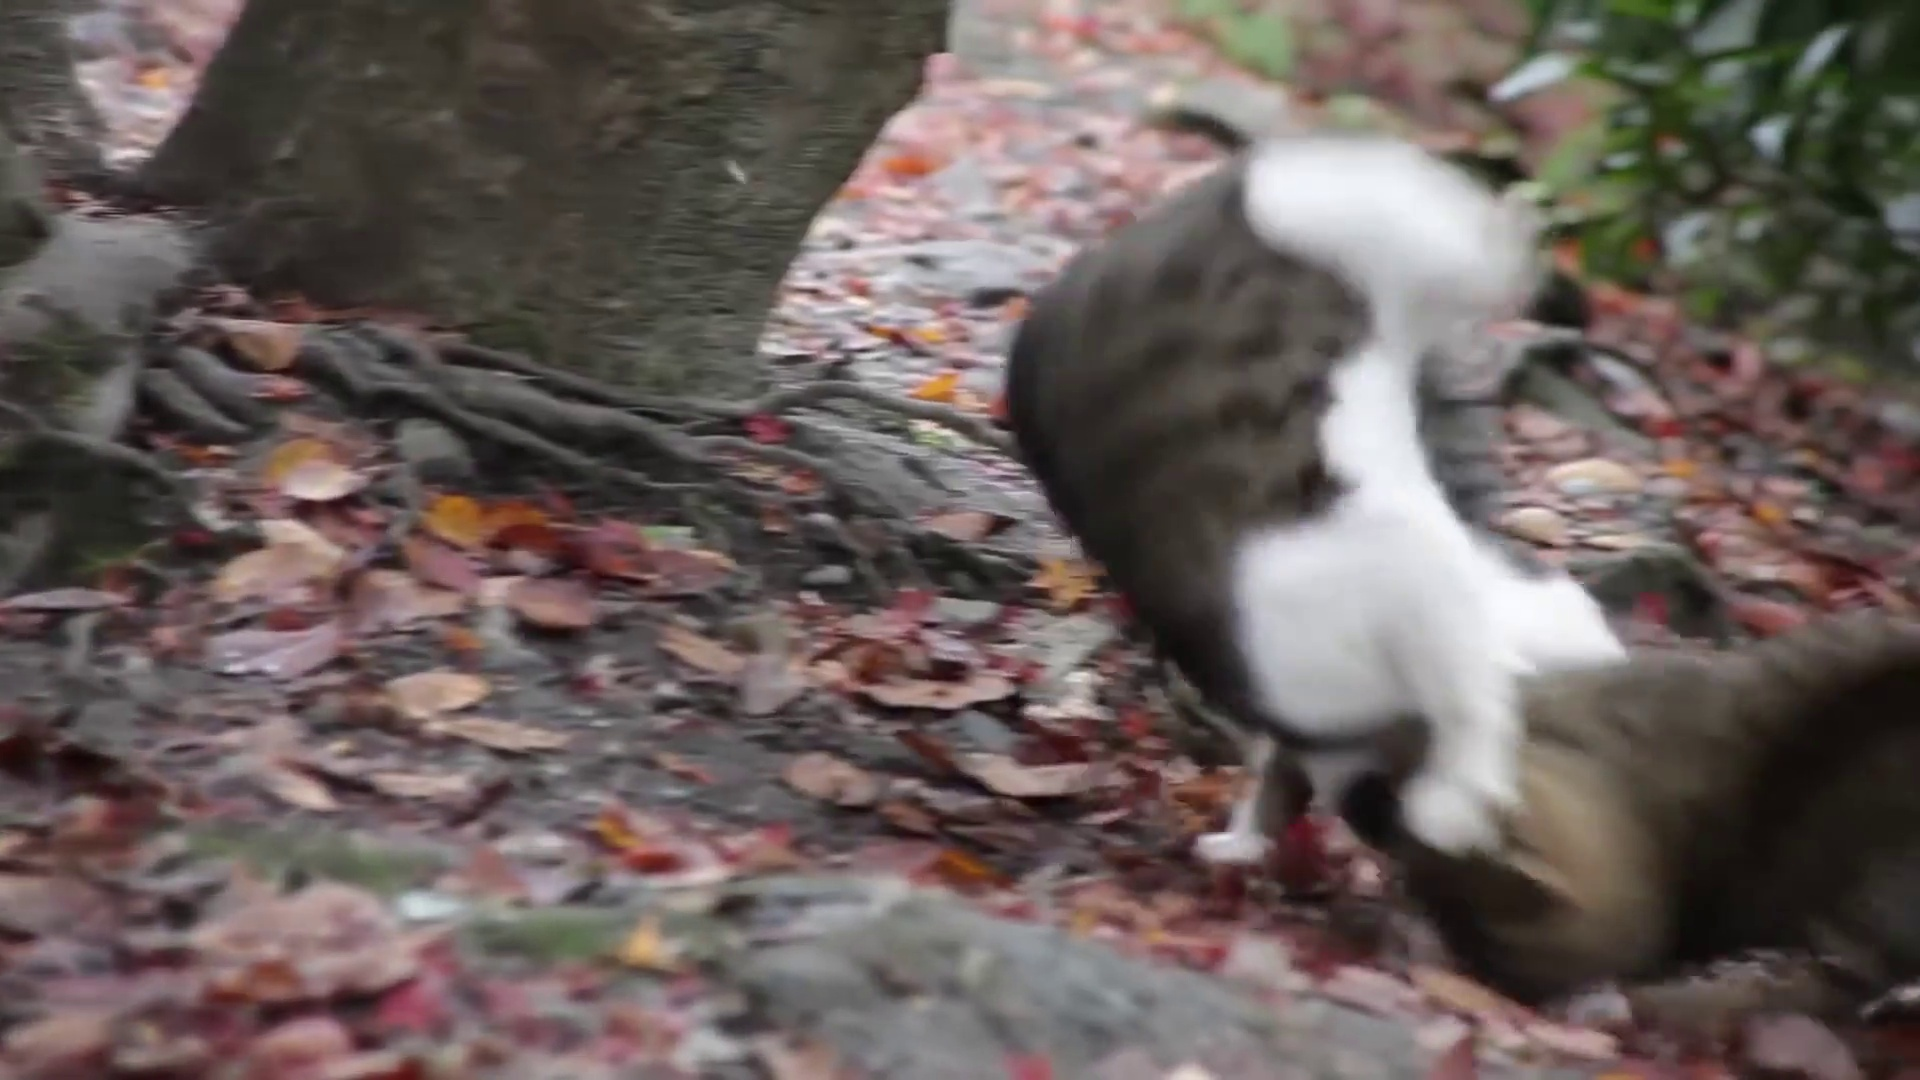black-white: (1007, 137, 1621, 857)
pure black: (1340, 597, 1920, 1004)
